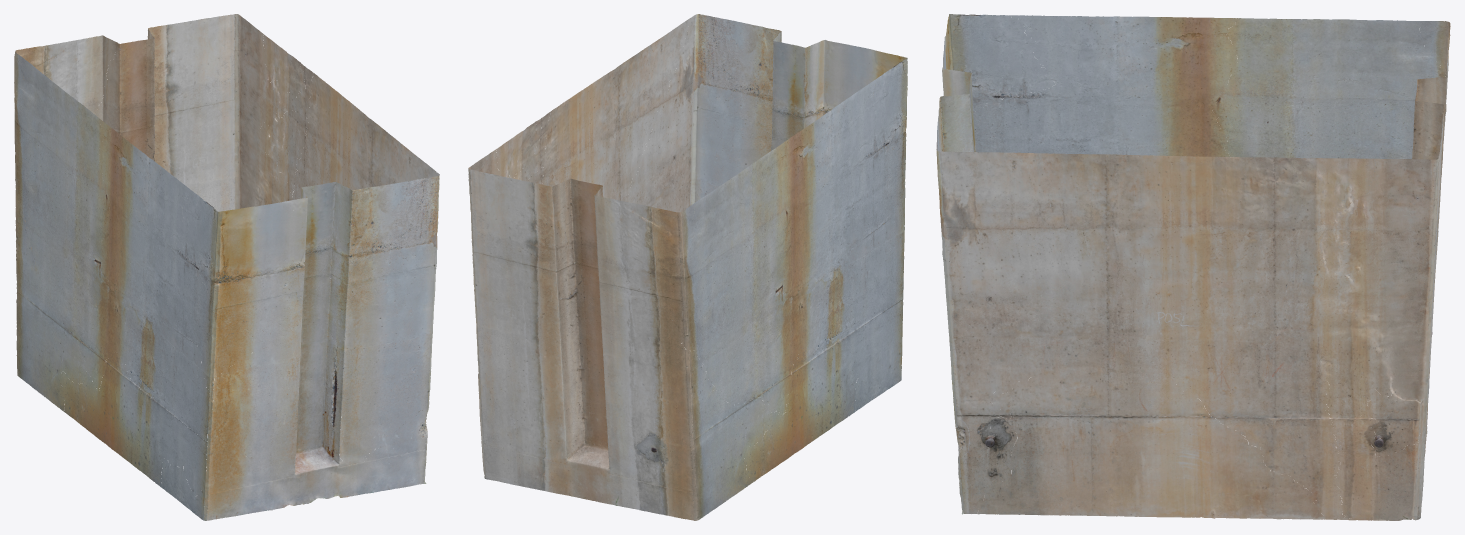
The model's file is model-optimised.glb.
The picture shows the model from 3 angles, left to right: view 1: azimuth 30°, elevation 25°; view 2: azimuth 150°, elevation 25°; view 3: azimuth 270°, elevation 25°; orthographic projection. The views are drawn at different scales.
Parts seen in each view (by area): view 1: Model; view 2: Model; view 3: Model.
Boxes of the visible parts, <box> form: Model: <box>14,14,439,520</box>; Model: <box>468,14,907,520</box>; Model: <box>936,14,1450,520</box>.
Size of the model in its own units: 2.59 by 3.38 by 4.15.
3 materials, 3 textured.
